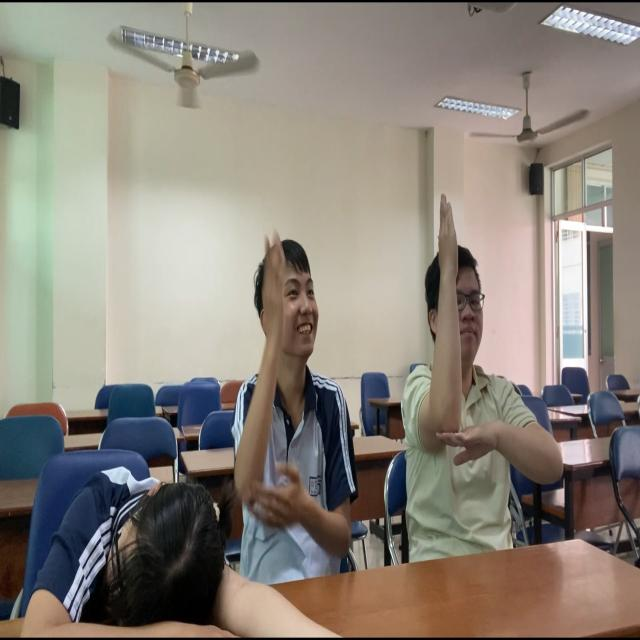raise_hand: (399, 188, 564, 559), (224, 237, 369, 574)
sleep: (28, 482, 259, 640)
